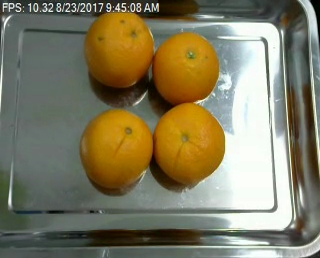Orange: (152, 101, 226, 188), (77, 108, 154, 189), (83, 11, 154, 86), (152, 33, 219, 103)
